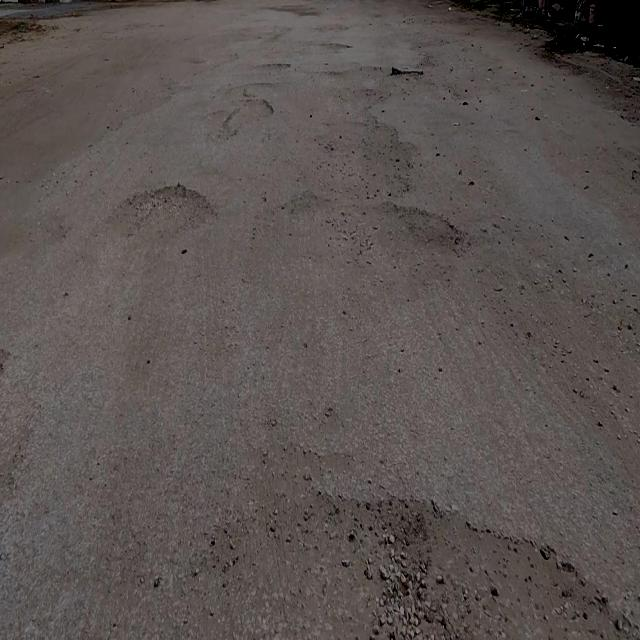Potholes: (110, 180, 213, 243), (222, 94, 276, 138)
